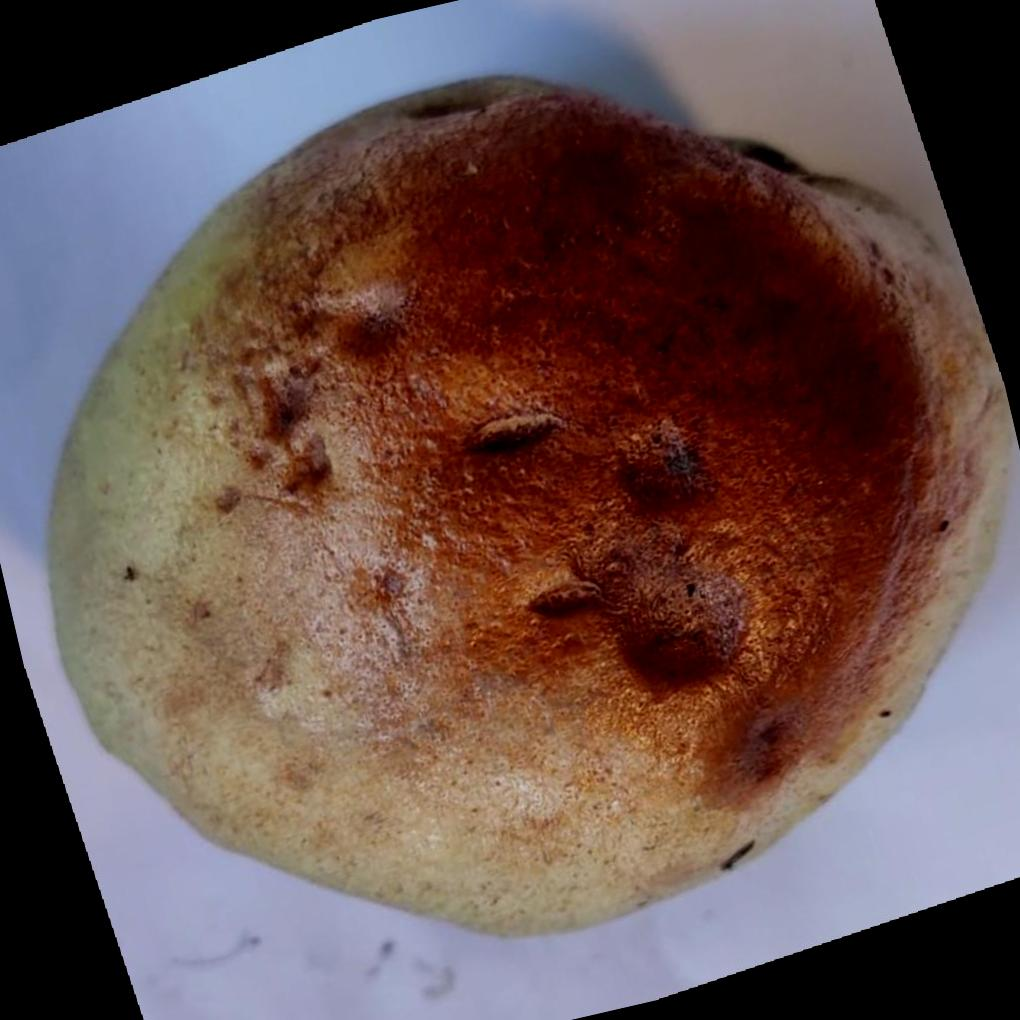FreshOrange: (44, 66, 1015, 935)
